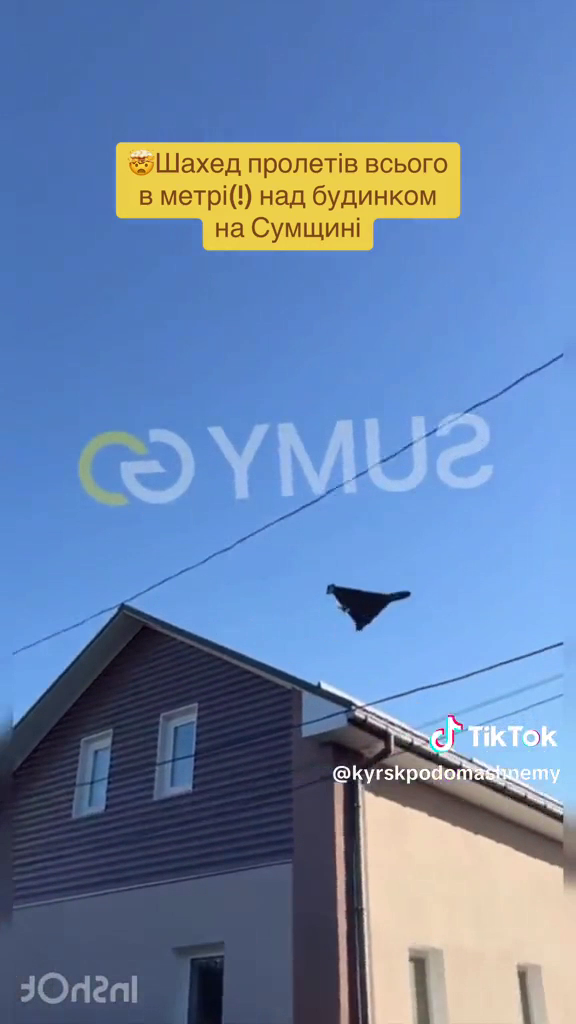shahed: (320, 580, 418, 637)
